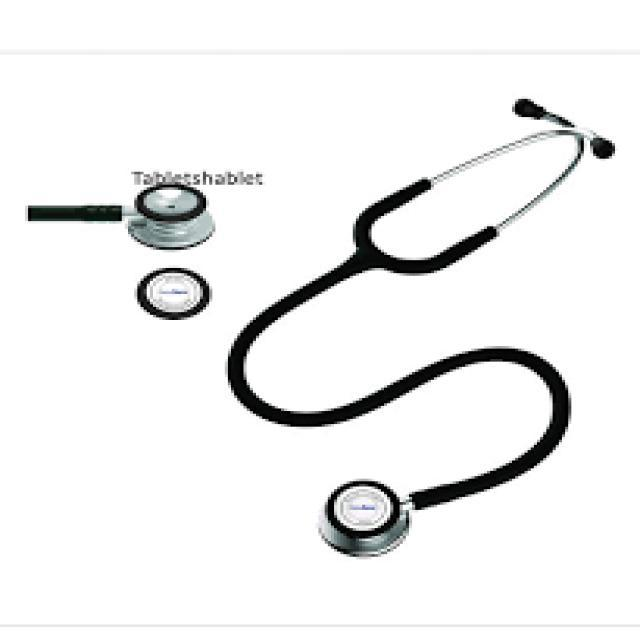stethoscope: (214, 76, 609, 619)
